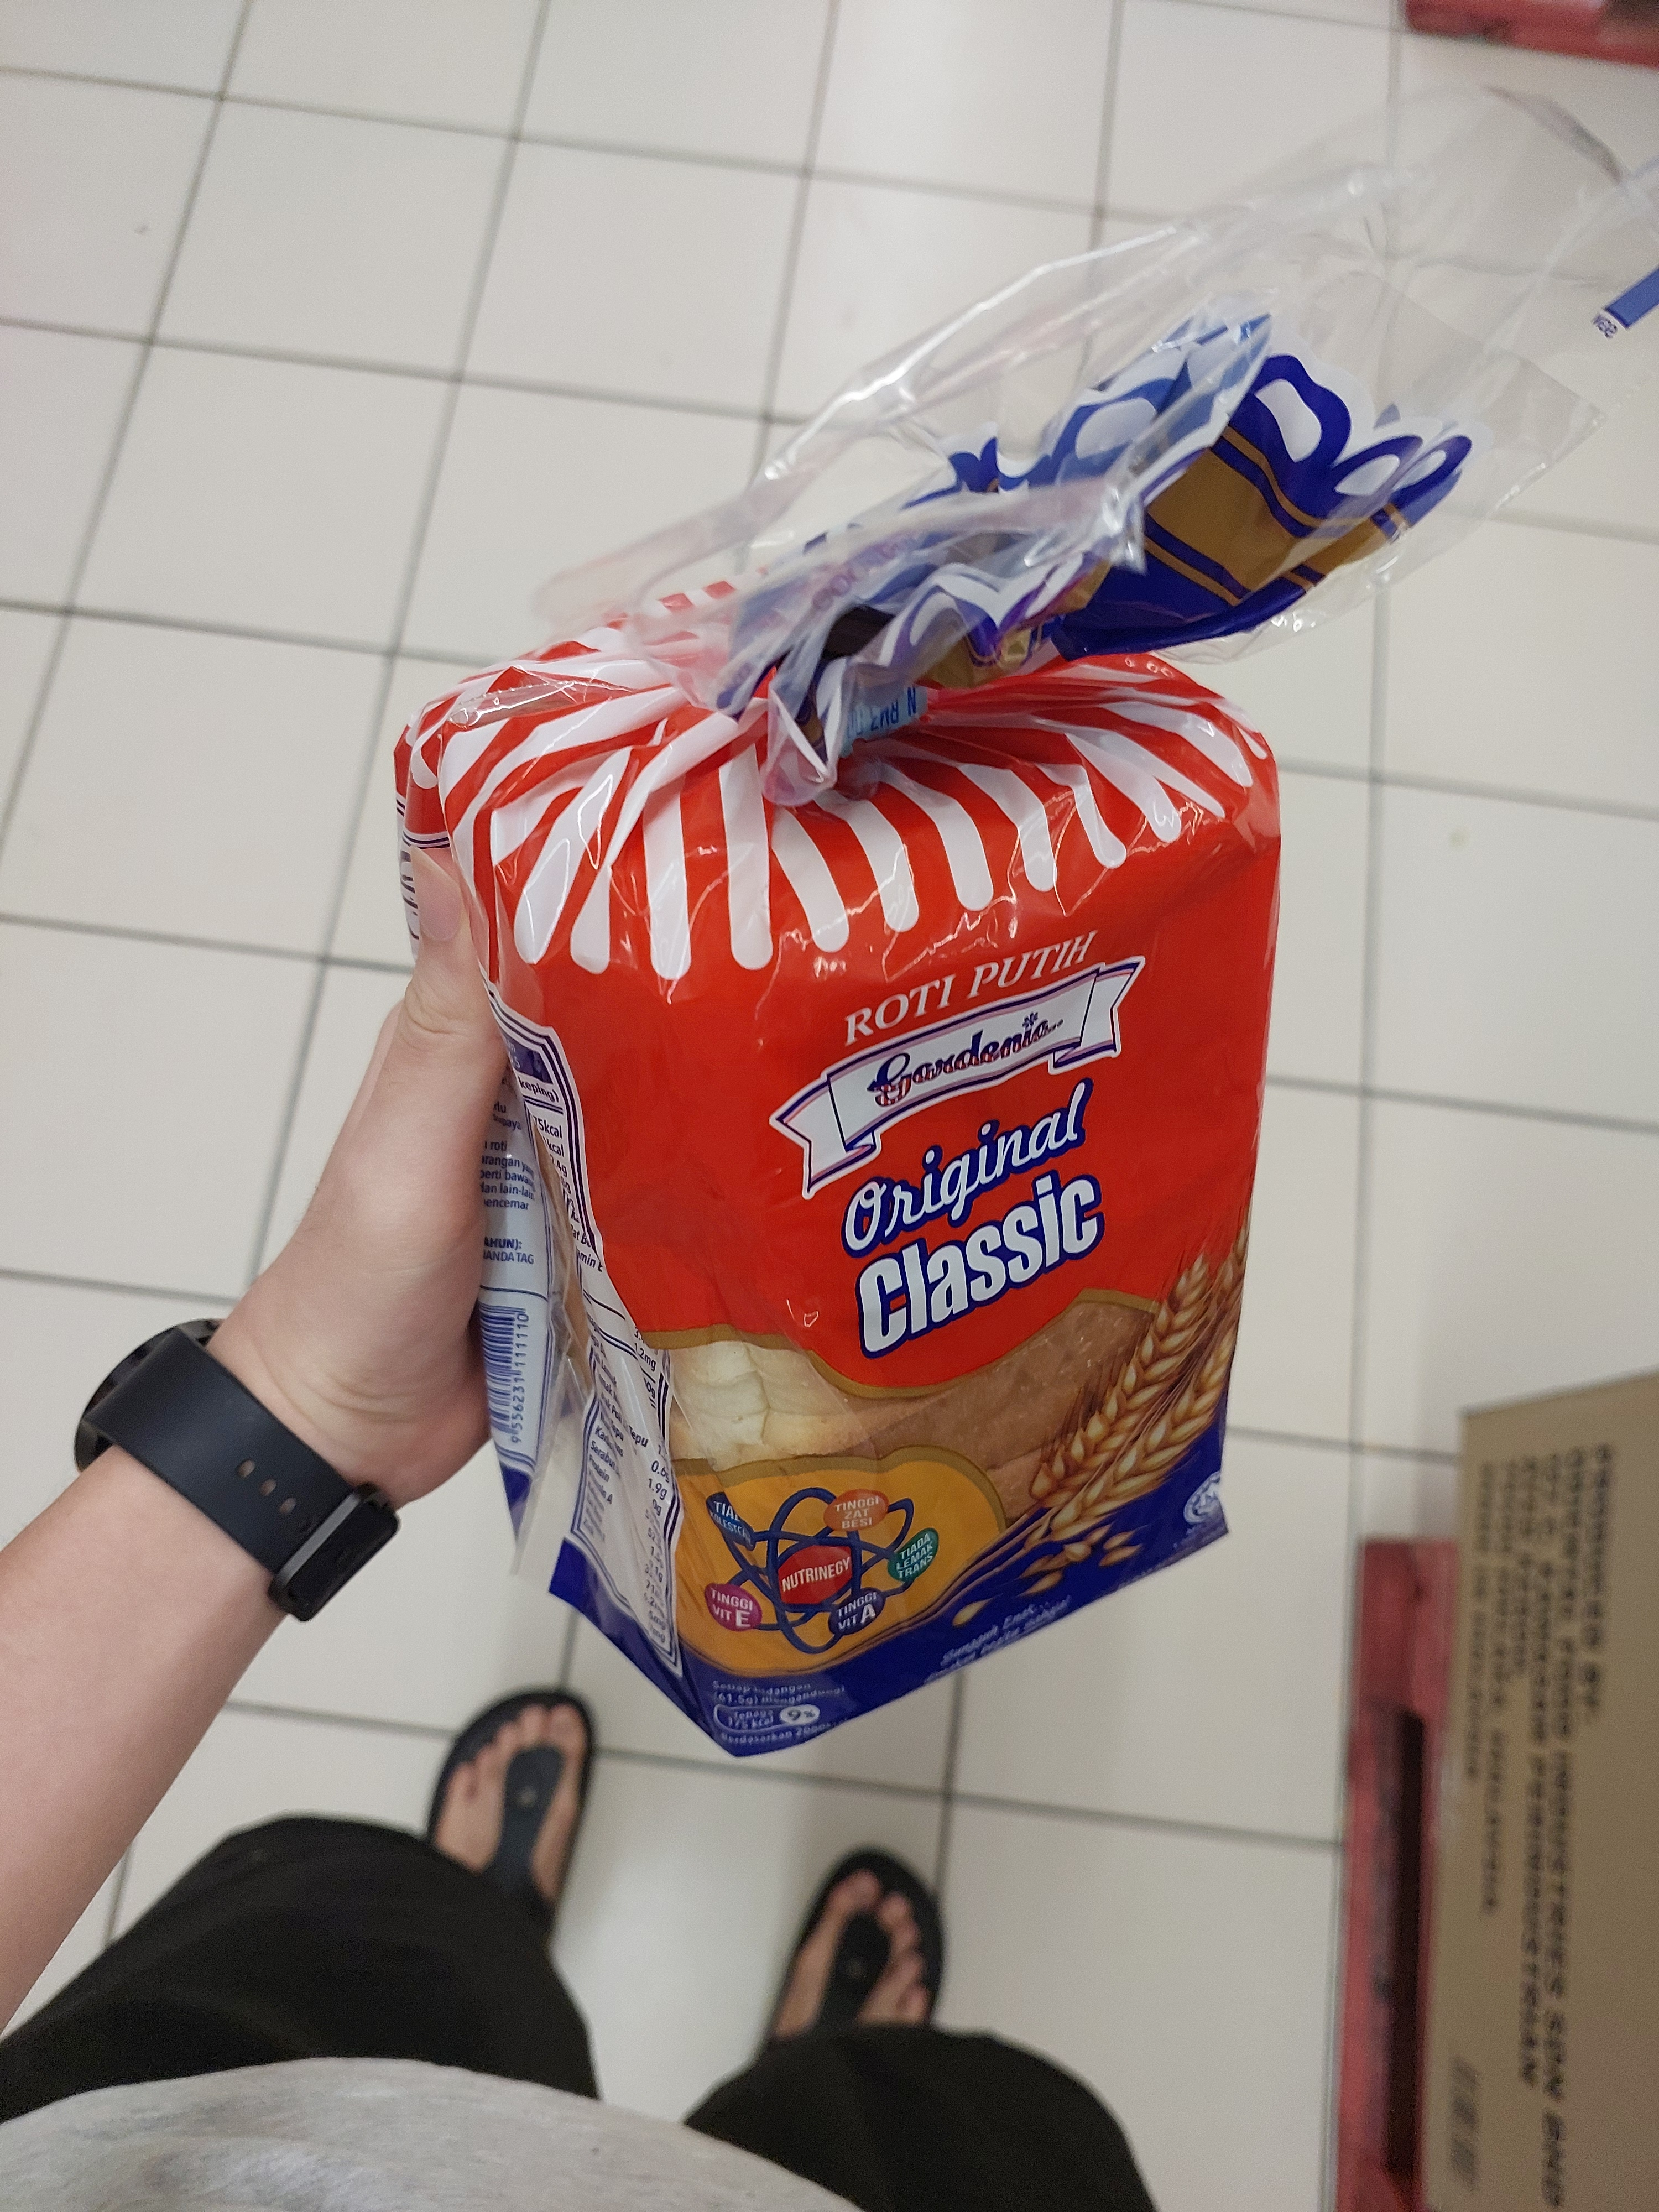bread: (385, 312, 1476, 1763)
